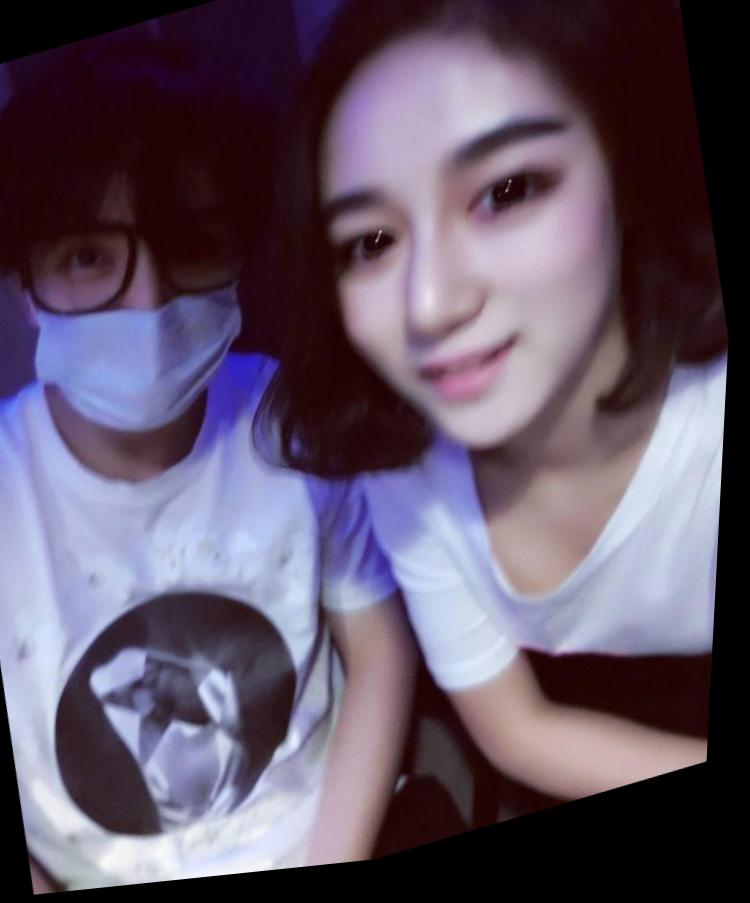NONE: (319, 107, 653, 484)
WRONG: (12, 162, 297, 458)
